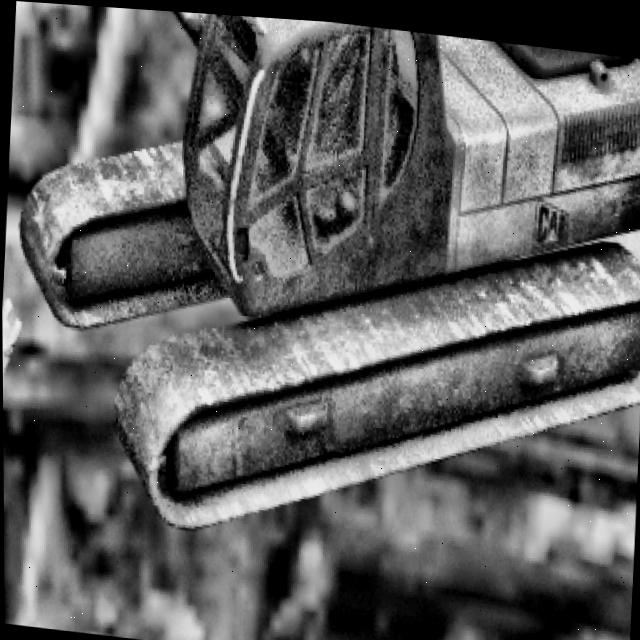excavator: (0, 0, 640, 573)
